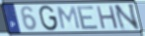6: (20, 5, 39, 32)
E: (76, 5, 100, 31)
G: (38, 5, 60, 32)
H: (95, 5, 120, 31)
M: (56, 6, 82, 30)
N: (112, 3, 141, 32)
